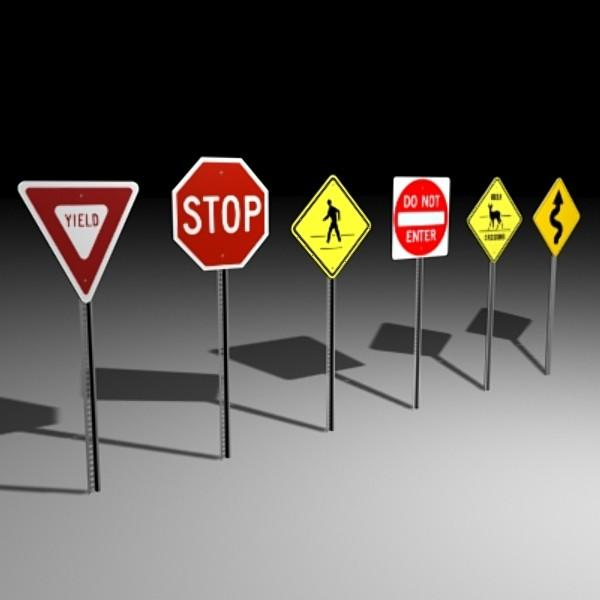Do Not Enter: (394, 177, 449, 258)
